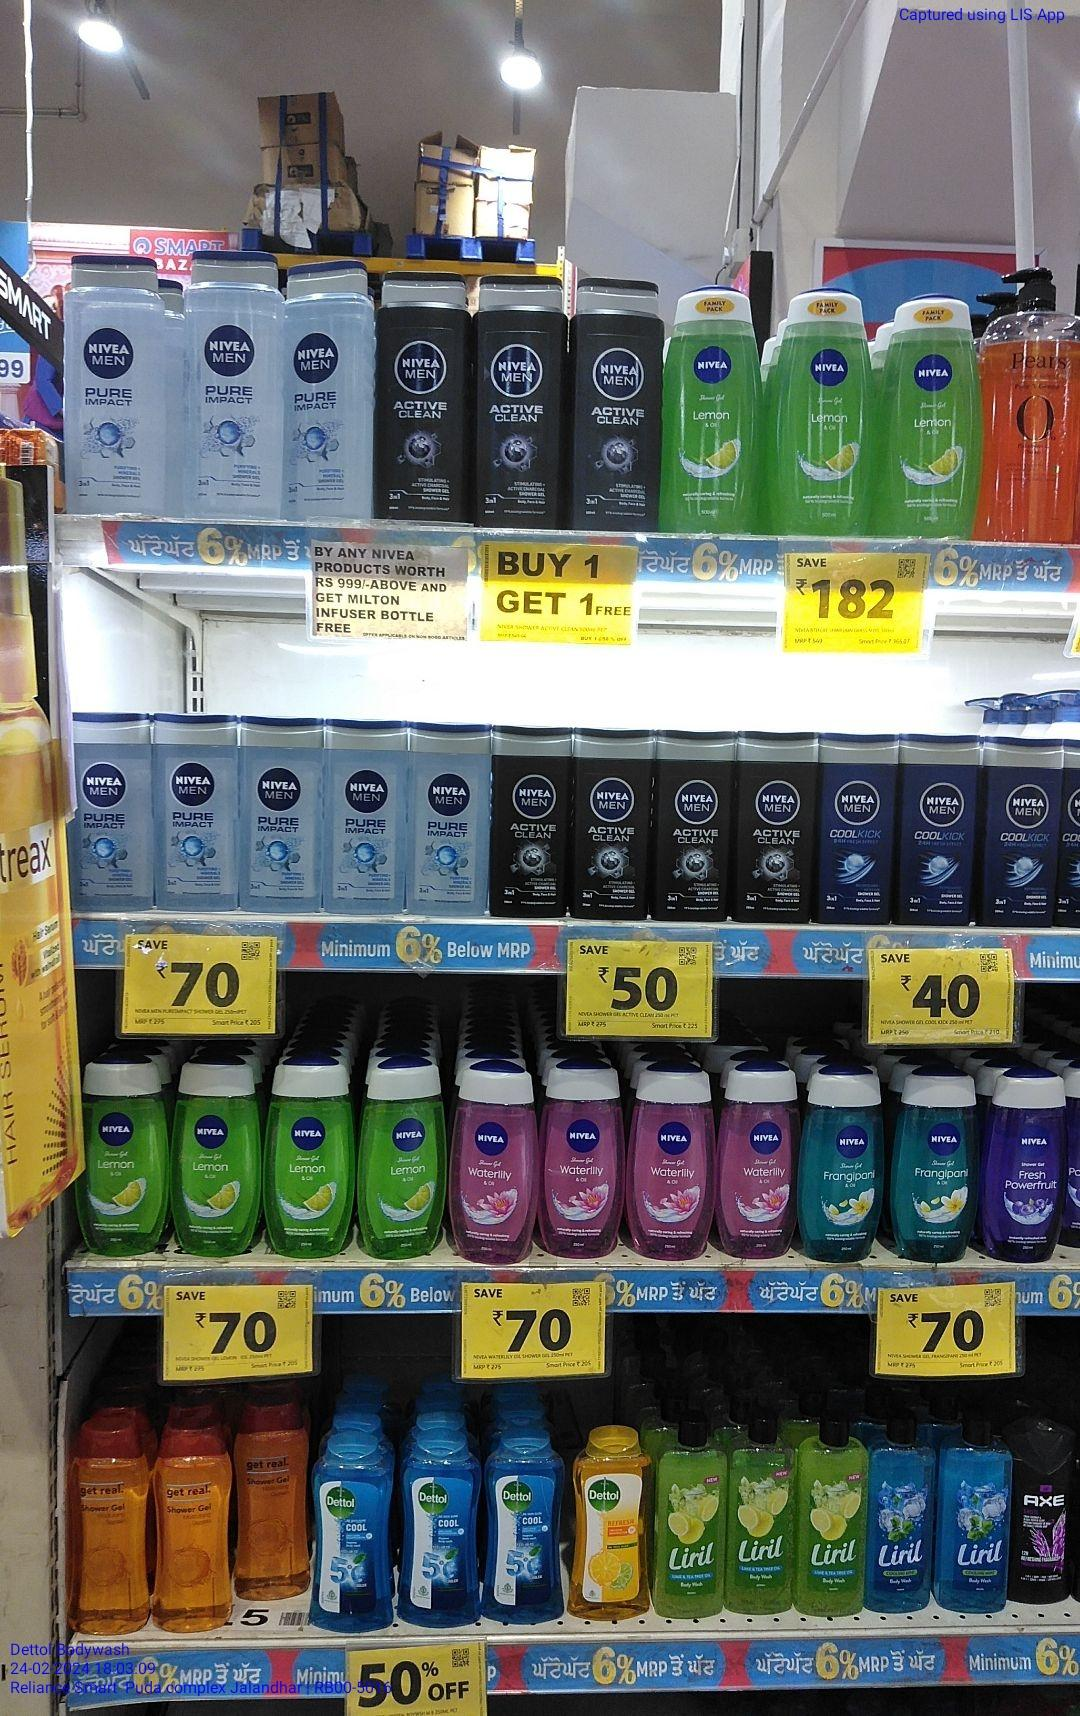Dettol_Bodywash_Cool: (312, 1446, 396, 1630), (486, 1434, 564, 1628), (404, 1440, 482, 1626)
Dettol_Bodywash_Refresh: (572, 1439, 652, 1616)
Get_Real_Shower_Gel_Moisturising_Glycerin_300ML: (154, 1421, 234, 1631), (75, 1424, 147, 1634), (239, 1395, 307, 1603)
Liril_Cooling_Mint_Body_Wash_250ML: (867, 1420, 934, 1611), (946, 1419, 1007, 1613)
Liril_Lime_and_Tea_Tree_Oil_Body_Wash_250ML: (800, 1421, 866, 1618), (661, 1426, 728, 1616), (732, 1424, 793, 1615)
Nivea_Shower_Gel_Frangipani_and_Oil_250ML: (805, 1070, 883, 1262), (898, 1075, 973, 1261)
Nivea_Shower_Gel_Fresh_Powerfruit_250ML: (992, 1073, 1065, 1263)
Nivea_Shower_Gel_Lemon_and_Oil_250ML: (775, 289, 877, 535), (668, 286, 763, 531), (890, 291, 978, 538), (362, 1063, 444, 1257), (78, 1059, 161, 1252), (175, 1059, 256, 1252), (270, 1065, 351, 1257)
Nivea_Shower_Gel_Waterlily_and_Oil_250ML: (458, 1064, 538, 1262), (636, 1069, 710, 1259), (545, 1060, 616, 1256), (729, 1070, 796, 1258)
